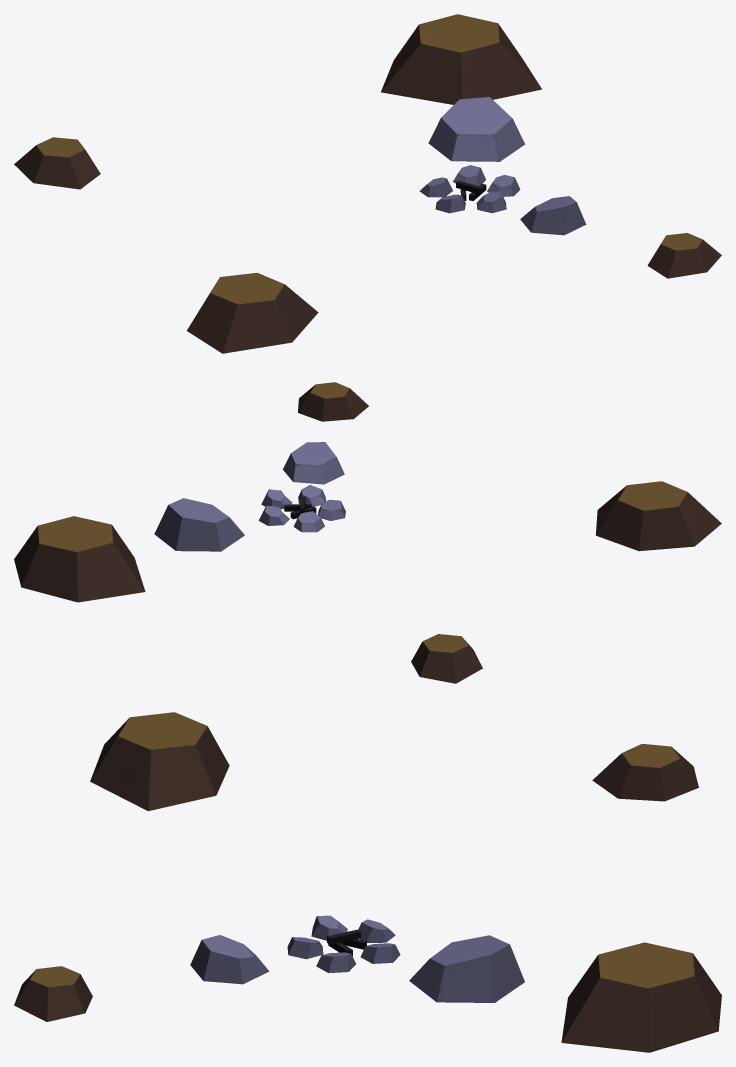
Rendered from waste_1_ruin_lod0.fbx.
The picture shows the model from 3 angles, top to bottom: view 1: azimuth 30°, elevation 25°; view 2: azimuth 150°, elevation 25°; view 3: azimuth 270°, elevation 25°; orthographic projection. The views are drawn at different scales.
Parts seen in each view (by area): view 1: waste_1_ruin_lod0; view 2: waste_1_ruin_lod0; view 3: waste_1_ruin_lod0.
Boxes of the visible parts, bbox=[...] form: waste_1_ruin_lod0: bbox=[14, 14, 721, 353]; waste_1_ruin_lod0: bbox=[14, 382, 721, 683]; waste_1_ruin_lod0: bbox=[14, 712, 721, 1052].
Bounding box in the file's own units: 0.0511 × 0.00382 × 0.0493.
